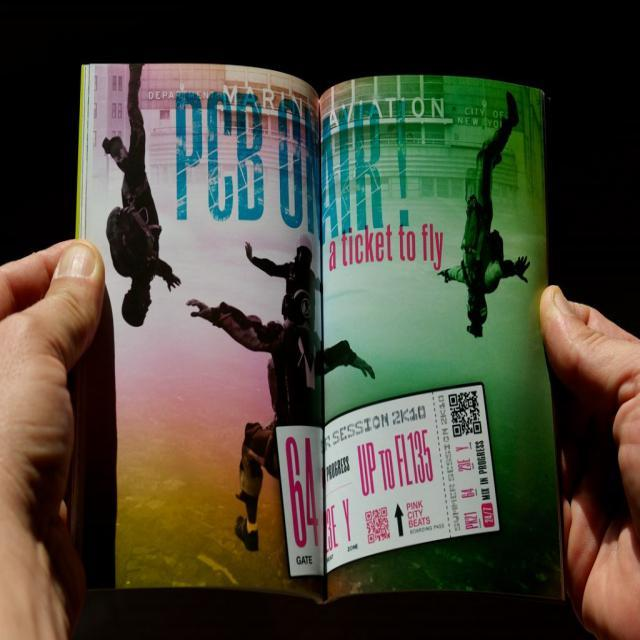qrcode: (449, 392, 482, 438)
